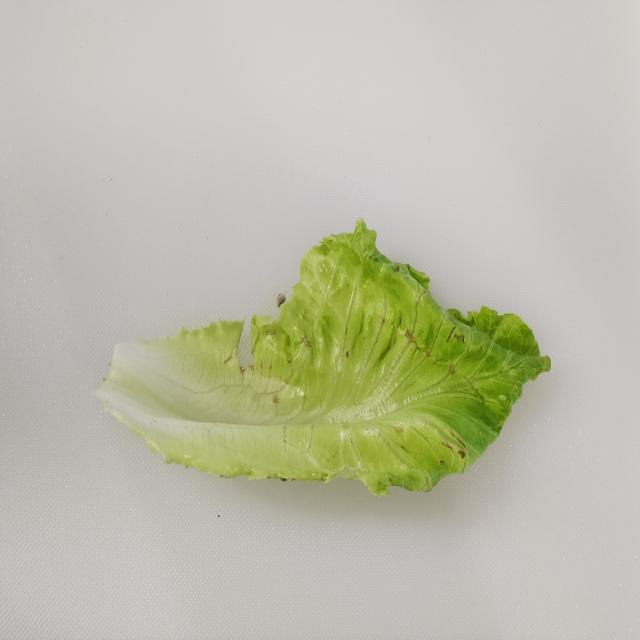lettuce: (93, 217, 551, 496)
